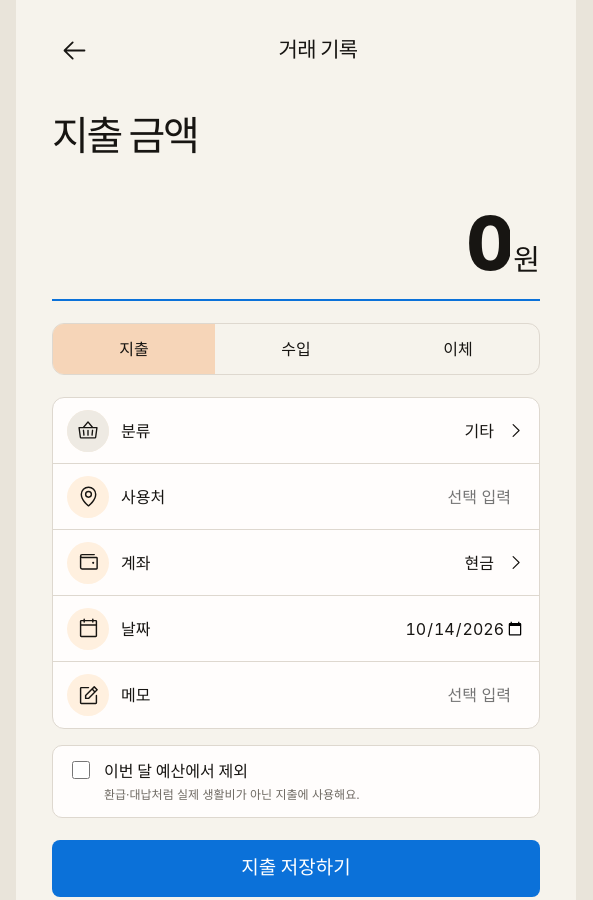
manual transaction drafts › supports each ledger transaction type and an accessible native date field
Expected: the button "이체" is shown, [377,324,539,374]
Click the button "수입": (296, 349) [215,324,377,374]
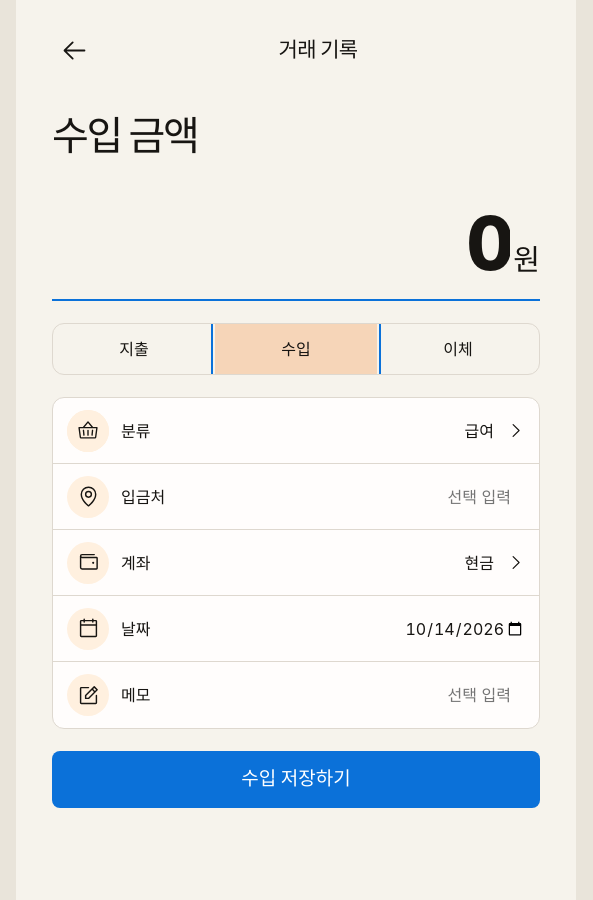
Result: the heading "수입 금액" is shown at [52,111,198,160]
Result: the text "이번 달 예산에서 제외" is gone
